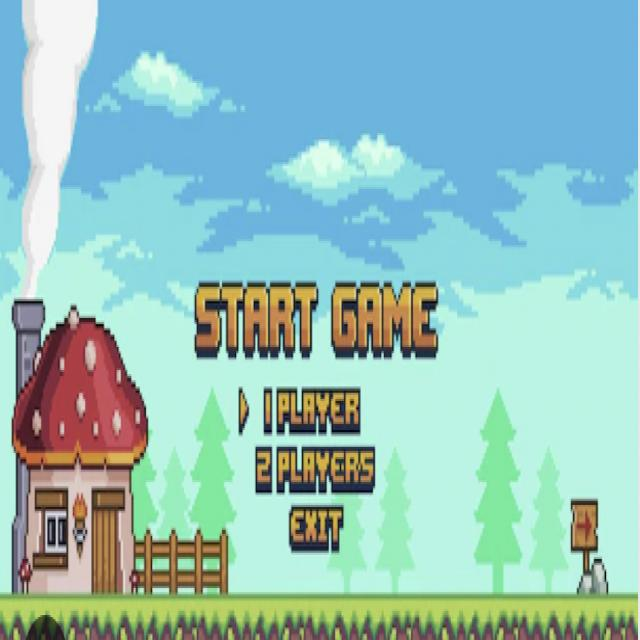Start-button: (192, 251, 454, 372)
